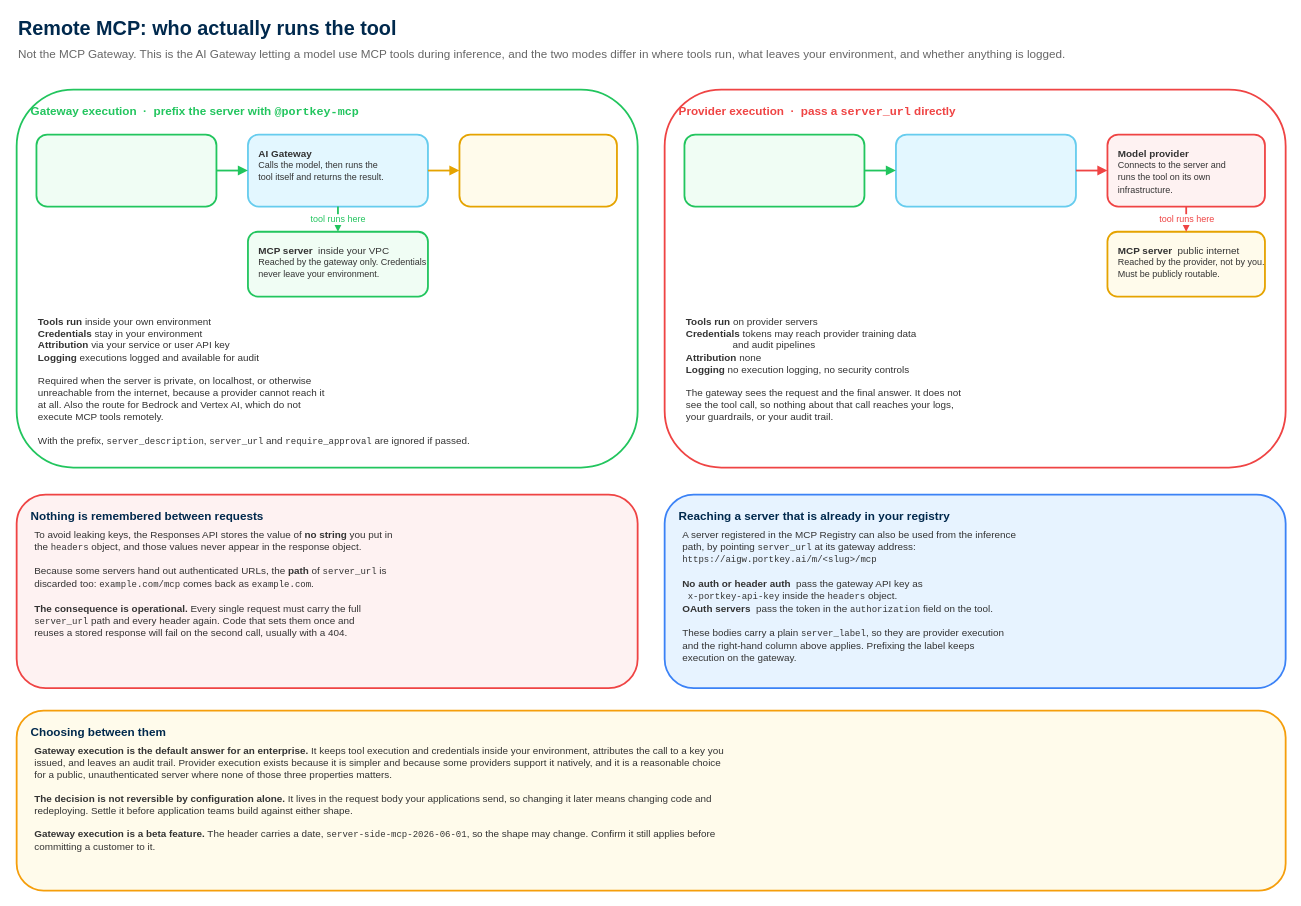
Some shapes in this 1301 by 906 pixel diagram are drawn without their labels. The shapes that lost their labels are listed below. From the top down, each one's centre as x and y in pixels, then its label:
(x=126, y=170): Your application x-portkey-beta: server-side-mcp-2026-06-01
(x=537, y=170): Model provider Asks for a tool call. Never touches the server.
(x=774, y=170): Your application "server_url": "https://mcp.example.com"
(x=985, y=170): AI Gateway Passes the tool definition through to the provider.
